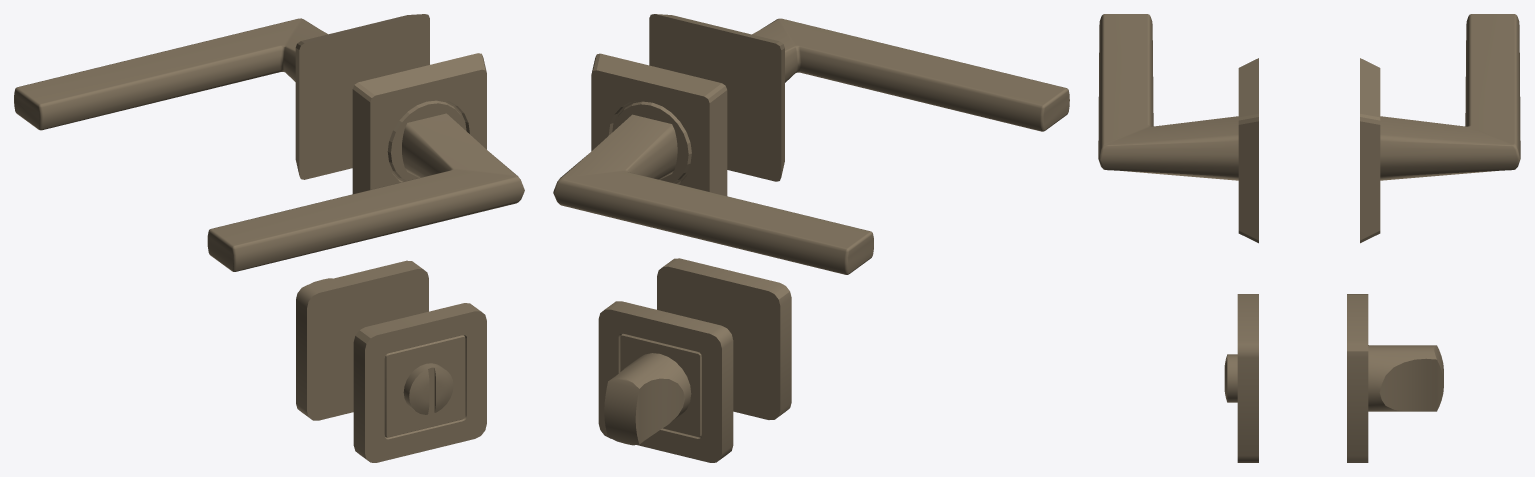
File: 86_MUNICH_Brnak.glb
The picture shows the model from 3 angles, left to right: view 1: azimuth 30°, elevation 25°; view 2: azimuth 150°, elevation 25°; view 3: azimuth 270°, elevation 25°; orthographic projection. The views are drawn at different scales.
Parts seen in each view (by area): view 1: 86_MUNICH_Brnak; view 2: 86_MUNICH_Brnak; view 3: 86_MUNICH_Brnak.
Part boxes in pixels (x1,y1,x2,y2): 86_MUNICH_Brnak: (14,14,524,462); 86_MUNICH_Brnak: (553,14,1069,462); 86_MUNICH_Brnak: (1098,14,1520,462).
Bounding box in the file's own units: 0.1546 × 0.166 × 0.1791.
